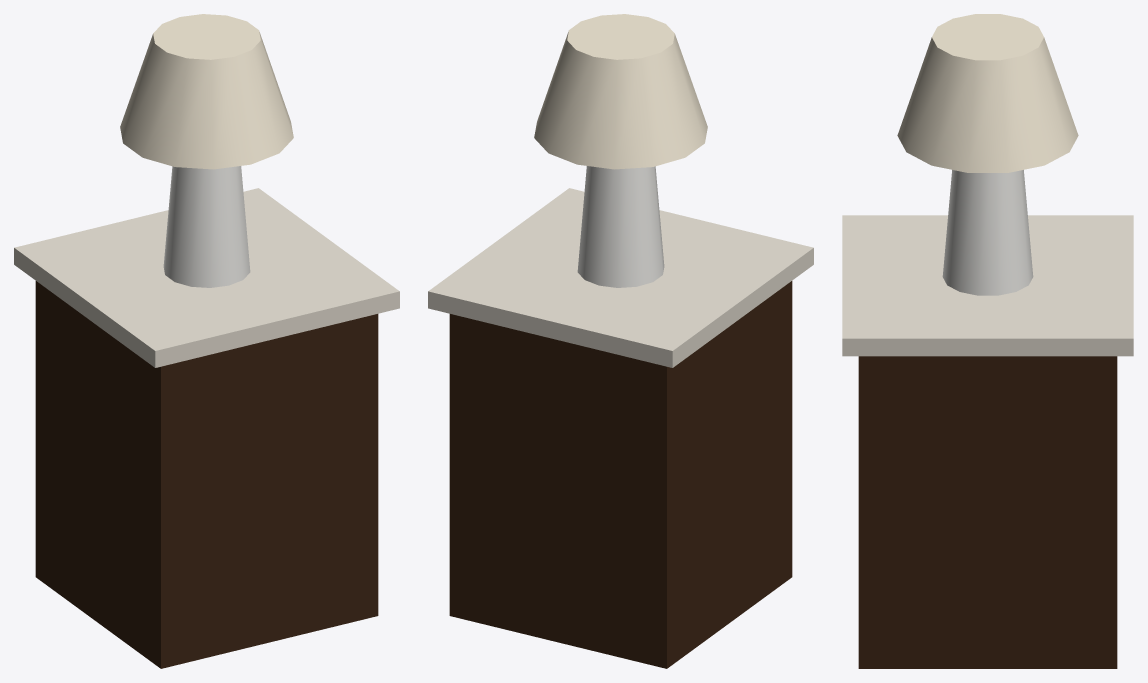
File: side-table.obj
3 views of the same model, side by side, from view 1: azimuth 30°, elevation 25°; view 2: azimuth 150°, elevation 25°; view 3: azimuth 270°, elevation 25° (orthographic). The views are drawn at different scales.
Visible parts, largest first — view 1: side-table_1, side-table_0, side-table_3, side-table_2; view 2: side-table_1, side-table_0, side-table_3, side-table_2; view 3: side-table_1, side-table_0, side-table_3, side-table_2.
Part boxes in pixels (bbox=[...]): side-table_1: bbox=[35, 281, 378, 668]; side-table_0: bbox=[14, 188, 399, 367]; side-table_3: bbox=[120, 14, 293, 169]; side-table_2: bbox=[163, 166, 250, 287]; side-table_1: bbox=[449, 281, 792, 668]; side-table_0: bbox=[428, 188, 813, 367]; side-table_3: bbox=[534, 14, 707, 169]; side-table_2: bbox=[577, 166, 664, 287]; side-table_1: bbox=[858, 356, 1117, 668]; side-table_0: bbox=[842, 215, 1133, 356]; side-table_3: bbox=[897, 14, 1078, 172]; side-table_2: bbox=[942, 170, 1033, 295].
Bounding box in the file's own units: 0.45 × 0.984 × 0.45.
